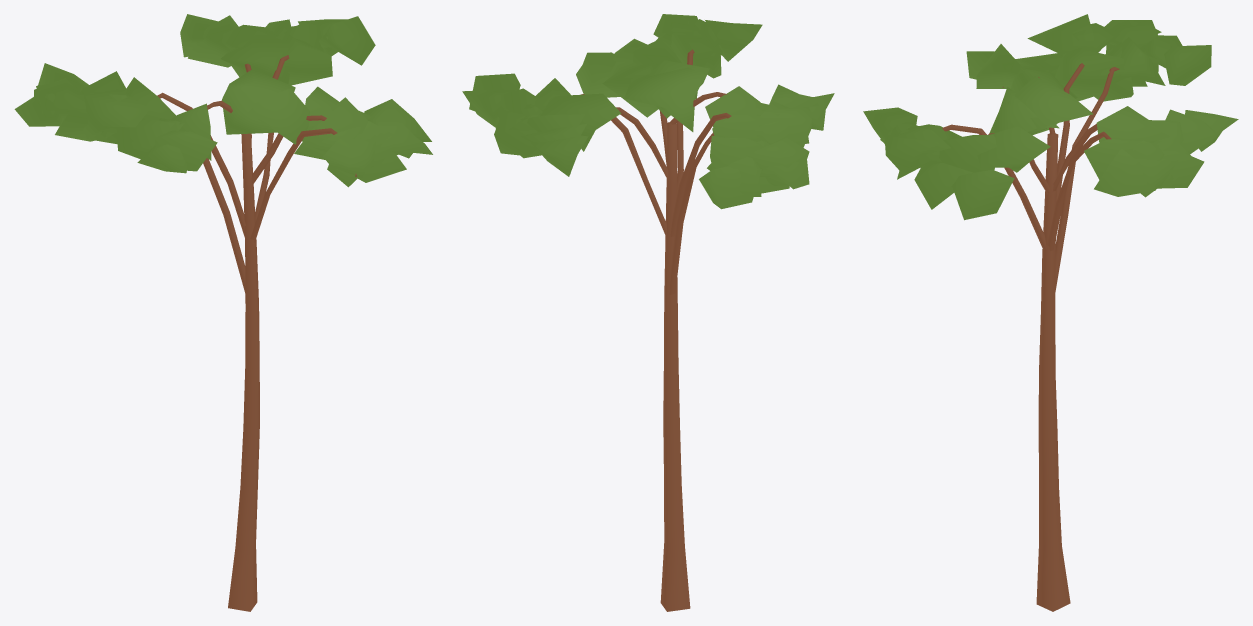
Rendered from Blender_SlashPine_1_Far.glb.
3 views of the same model, side by side, from view 1: azimuth 30°, elevation 25°; view 2: azimuth 150°, elevation 25°; view 3: azimuth 270°, elevation 25° (orthographic). The views are drawn at different scales.
Parts seen in each view (by area): view 1: Blender_SlashPine_1_Far; view 2: Blender_SlashPine_1_Far; view 3: Blender_SlashPine_1_Far.
Part boxes in pixels (<box>): Blender_SlashPine_1_Far: <box>14,14,432,611</box>; Blender_SlashPine_1_Far: <box>462,14,834,611</box>; Blender_SlashPine_1_Far: <box>863,14,1238,611</box>.
Bounding box in the file's own units: 14.58 × 21.84 × 14.22.
